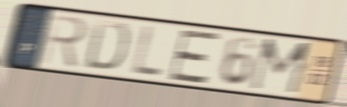6: (219, 35, 258, 89)
D: (82, 17, 132, 73)
E: (166, 29, 224, 86)
L: (129, 23, 164, 80)
M: (247, 36, 317, 97)
R: (37, 12, 89, 70)
